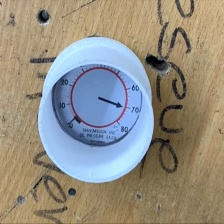gauge: (52, 66, 142, 146)
